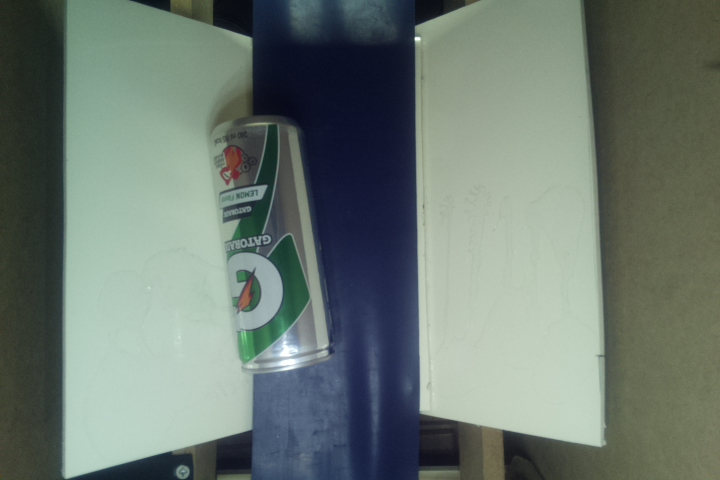can: (208, 117, 341, 373)
